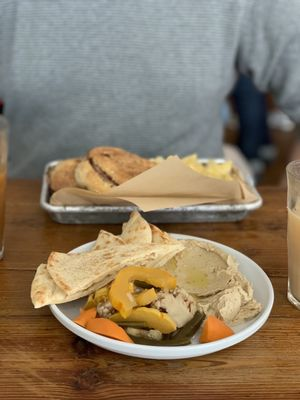pizza: (0, 96, 12, 261), (287, 160, 300, 310), (286, 159, 300, 213)
